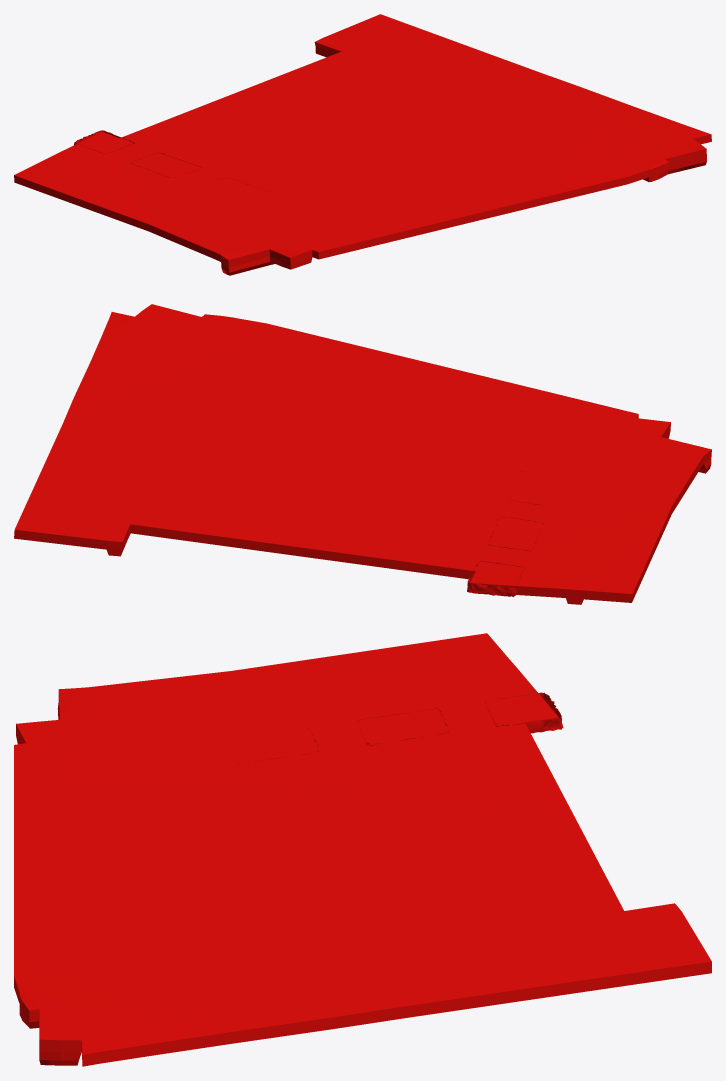
The picture shows the model from 3 angles, top to bottom: view 1: azimuth 30°, elevation 25°; view 2: azimuth 150°, elevation 25°; view 3: azimuth 270°, elevation 25°; orthographic projection. The views are drawn at different scales.
Parts seen in each view (by area): view 1: Plane; view 2: Plane; view 3: Plane.
Part boxes in pixels (<box>): Plane: <box>14,14,711,275</box>; Plane: <box>14,304,711,604</box>; Plane: <box>14,633,711,1066</box>.
Bounding box in the file's own units: 9232 × 270 × 6455.
